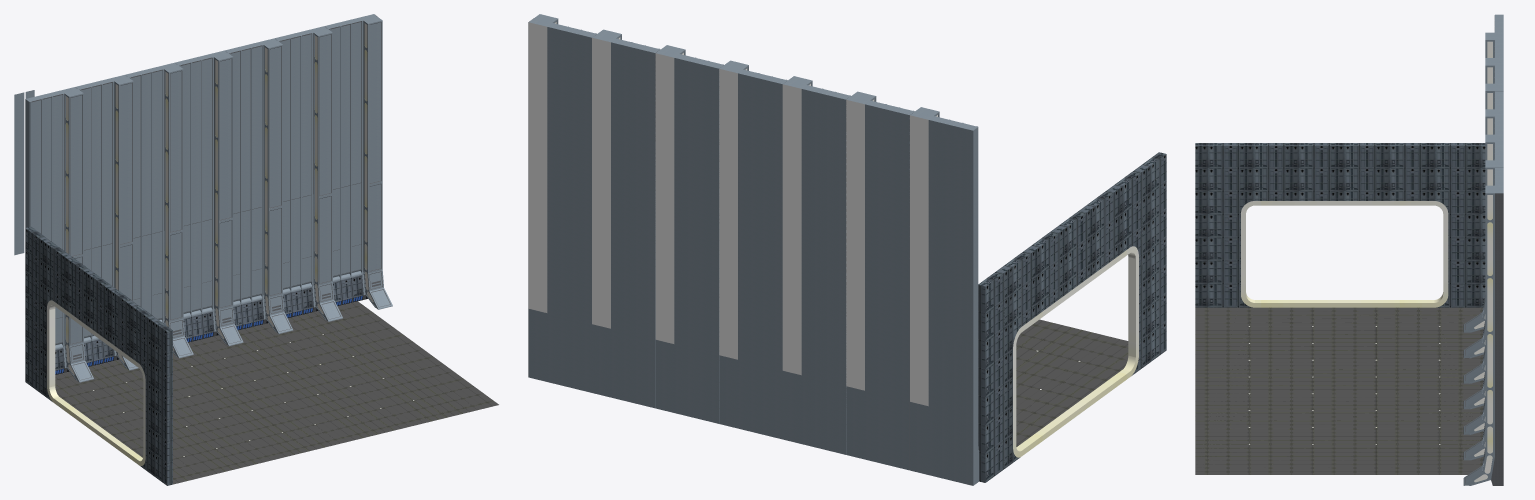
Rendered from hangar.glb.
The picture shows the model from 3 angles, left to right: view 1: azimuth 30°, elevation 25°; view 2: azimuth 150°, elevation 25°; view 3: azimuth 270°, elevation 25°; orthographic projection. The views are drawn at different scales.
Visible parts, largest first — view 1: group_0.010_ID93, SketchUp.006_ID61, SketchUp_ID3, SketchUp.015_ID586, SketchUp.001_ID16, SketchUp.004_ID45; view 2: group_0.010_ID93, SketchUp_ID3, SketchUp.006_ID61, SketchUp.015_ID586, SketchUp.014_ID578, SketchUp.001_ID16, SketchUp.004_ID45; view 3: SketchUp.006_ID61, SketchUp_ID3, group_0.010_ID93, SketchUp.003_ID37, SketchUp.004_ID45.
Part boxes in pixels (bbox=[...]): group_0.010_ID93: bbox=[25, 14, 392, 382]; SketchUp.006_ID61: bbox=[55, 301, 498, 484]; SketchUp_ID3: bbox=[25, 226, 172, 485]; SketchUp.015_ID586: bbox=[14, 92, 24, 255]; SketchUp.001_ID16: bbox=[47, 300, 145, 465]; SketchUp.004_ID45: bbox=[49, 305, 142, 461]; group_0.010_ID93: bbox=[528, 14, 979, 485]; SketchUp_ID3: bbox=[978, 152, 1166, 482]; SketchUp.006_ID61: bbox=[1016, 319, 1128, 446]; SketchUp.015_ID586: bbox=[954, 137, 966, 344]; SketchUp.014_ID578: bbox=[941, 134, 952, 341]; SketchUp.001_ID16: bbox=[1013, 246, 1138, 457]; SketchUp.004_ID45: bbox=[1016, 252, 1135, 451]; SketchUp.006_ID61: bbox=[1195, 307, 1483, 474]; SketchUp_ID3: bbox=[1195, 143, 1485, 307]; group_0.010_ID93: bbox=[1463, 14, 1503, 485]; SketchUp.003_ID37: bbox=[1241, 201, 1448, 307]; SketchUp.004_ID45: bbox=[1246, 292, 1443, 302].
Size of the model in its own units: 57.31 by 43.13 by 43.45.
10 materials, 8 textured.
